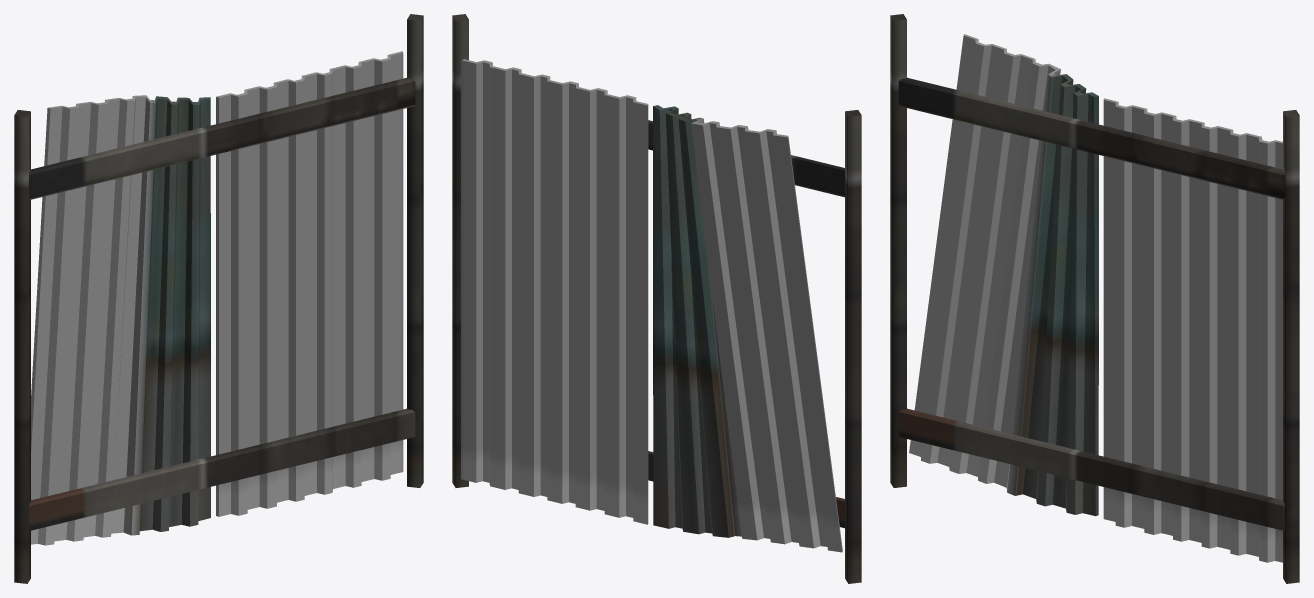
File: bz_fence_profile_03.fbx
3 views of the same model, side by side, from view 1: azimuth 30°, elevation 25°; view 2: azimuth 150°, elevation 25°; view 3: azimuth 330°, elevation 25° (orthographic).
Visible parts, largest first — view 1: bz_fence_profile_005, bz_fence_profile_007, bz_fence_profile_004, bz_fence_profile_003, bz_fence_profile_002, bz_fence_profile_001; view 2: bz_fence_profile_005, bz_fence_profile_007, bz_fence_profile_002, bz_fence_profile_001, bz_fence_profile_003; view 3: bz_fence_profile_005, bz_fence_profile_007, bz_fence_profile_003, bz_fence_profile_004, bz_fence_profile_001, bz_fence_profile_002.
Boxes of the visible parts, x1=… form: bz_fence_profile_005: x1=216, y1=51, x2=403, y2=516; bz_fence_profile_007: x1=31, y1=95, x2=210, y2=545; bz_fence_profile_004: x1=29, y1=408, x2=415, y2=530; bz_fence_profile_003: x1=29, y1=77, x2=415, y2=199; bz_fence_profile_002: x1=14, y1=110, x2=30, y2=583; bz_fence_profile_001: x1=407, y1=14, x2=423, y2=487; bz_fence_profile_005: x1=461, y1=59, x2=648, y2=524; bz_fence_profile_007: x1=653, y1=105, x2=842, y2=552; bz_fence_profile_002: x1=845, y1=110, x2=861, y2=583; bz_fence_profile_001: x1=452, y1=14, x2=468, y2=487; bz_fence_profile_003: x1=648, y1=120, x2=845, y2=197; bz_fence_profile_005: x1=1103, y1=98, x2=1282, y2=562; bz_fence_profile_007: x1=909, y1=34, x2=1098, y2=516; bz_fence_profile_003: x1=898, y1=77, x2=1284, y2=199; bz_fence_profile_004: x1=898, y1=408, x2=1284, y2=530; bz_fence_profile_001: x1=1283, y1=110, x2=1299, y2=583; bz_fence_profile_002: x1=890, y1=14, x2=906, y2=487.
Size of the model in its own units: 1.94 by 2.12 by 0.2066.
